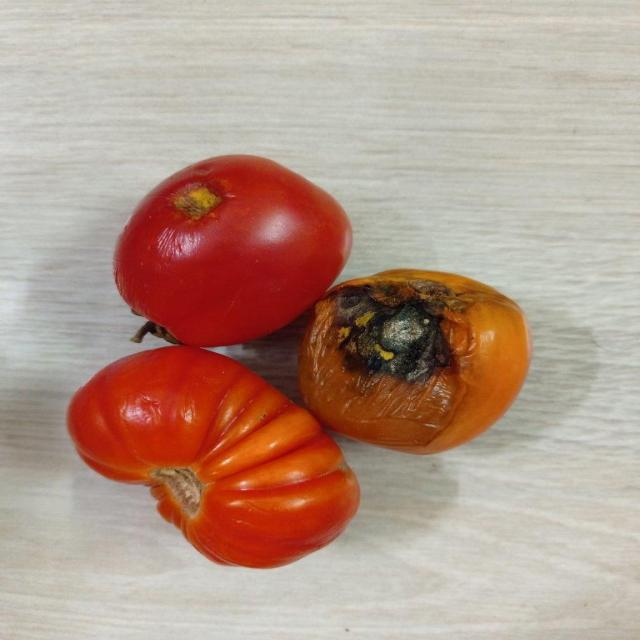Rotten: (115, 154, 348, 345), (302, 268, 531, 452)
